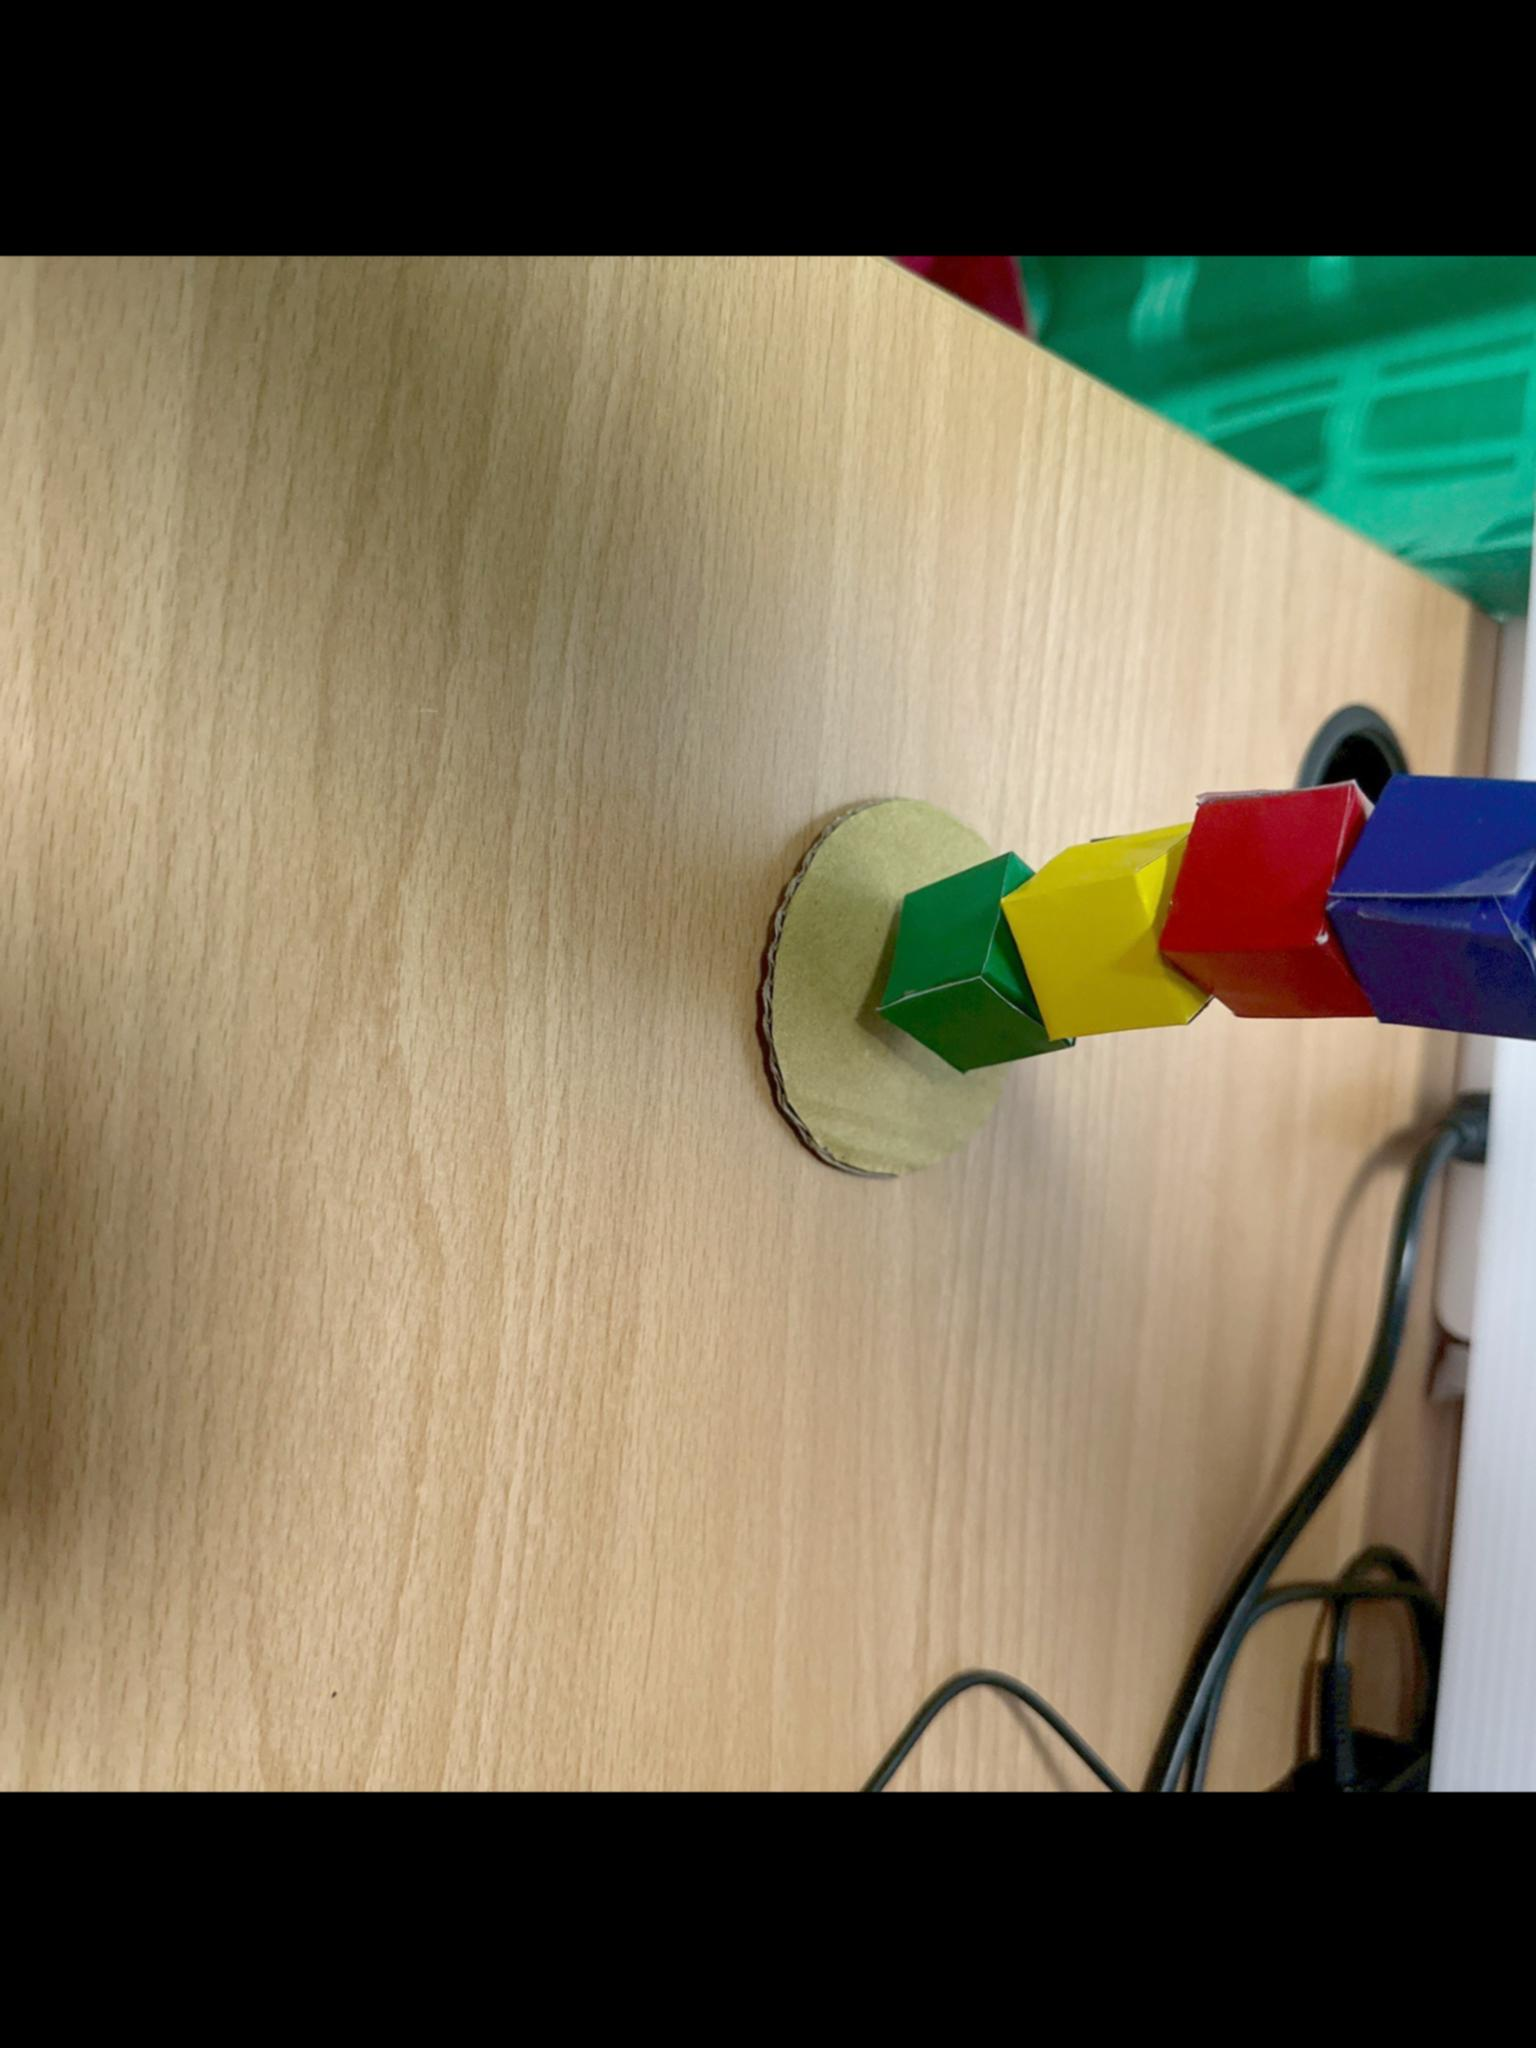base: (758, 798, 1008, 1176)
